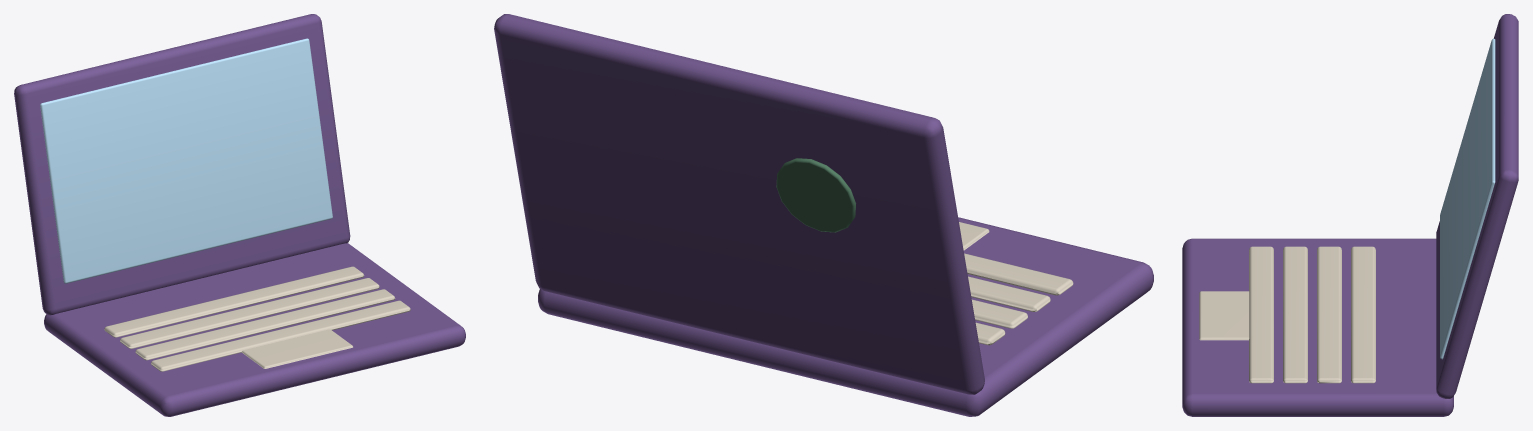
File: laptop.glb
The picture shows the model from 3 angles, left to right: view 1: azimuth 30°, elevation 25°; view 2: azimuth 150°, elevation 25°; view 3: azimuth 270°, elevation 25°; orthographic projection. The views are drawn at different scales.
Visible parts, largest first — view 1: laptop; view 2: laptop; view 3: laptop.
Boxes of the visible parts, x1=… form: laptop: x1=14, y1=14, x2=465, y2=416; laptop: x1=494, y1=14, x2=1153, y2=416; laptop: x1=1182, y1=14, x2=1518, y2=416.
Bounding box in the file's own units: 0.34 × 0.2404 × 0.2972.
